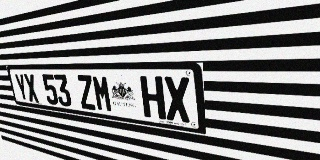3: (53, 74, 72, 107)
5: (41, 74, 59, 105)
H: (140, 76, 166, 120)
M: (91, 75, 113, 113)
X: (163, 76, 191, 123), (23, 74, 40, 103)
Y: (14, 74, 29, 101)
Z: (76, 75, 97, 110)
